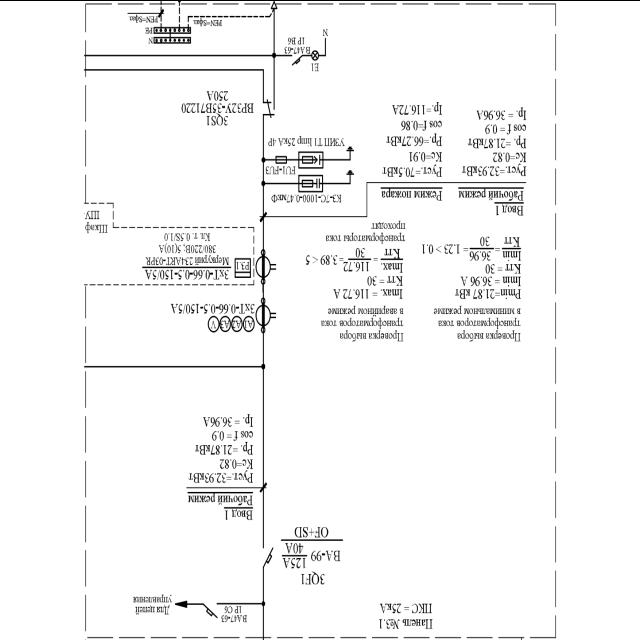-: (142, 232, 232, 278), (280, 524, 346, 570), (179, 88, 255, 113), (168, 300, 254, 314), (268, 134, 347, 148), (84, 207, 108, 234), (283, 34, 311, 54), (220, 605, 248, 623), (264, 162, 296, 176)
FU: (274, 154, 288, 164)
HL: (310, 48, 320, 61)
PA: (242, 314, 255, 333), (230, 314, 242, 332), (219, 314, 231, 332)
PV: (207, 314, 220, 332)
QF: (202, 600, 220, 620), (261, 544, 275, 568), (290, 53, 303, 66)
TT: (255, 296, 277, 334), (255, 248, 277, 284)
WH: (234, 256, 252, 278)
YZIP: (297, 150, 325, 168)
switch: (263, 98, 277, 118)
